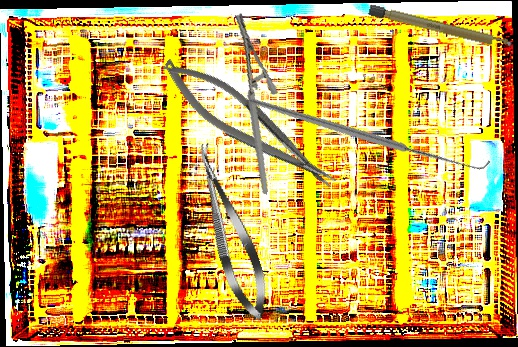Hook Surgical: (249, 9, 491, 254)
Micro Scissor: (184, 138, 277, 325)
Needle Holder: (152, 44, 344, 207), (203, 12, 300, 195)
Scalpel Handle: (367, 4, 516, 52)
